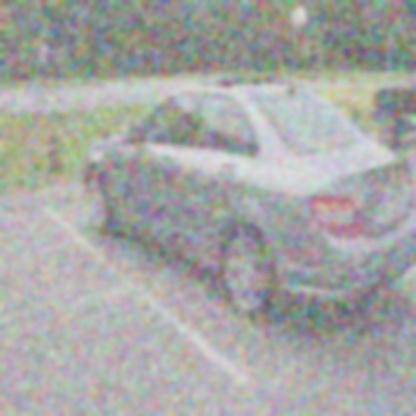Vehicle: (84, 81, 415, 324)
